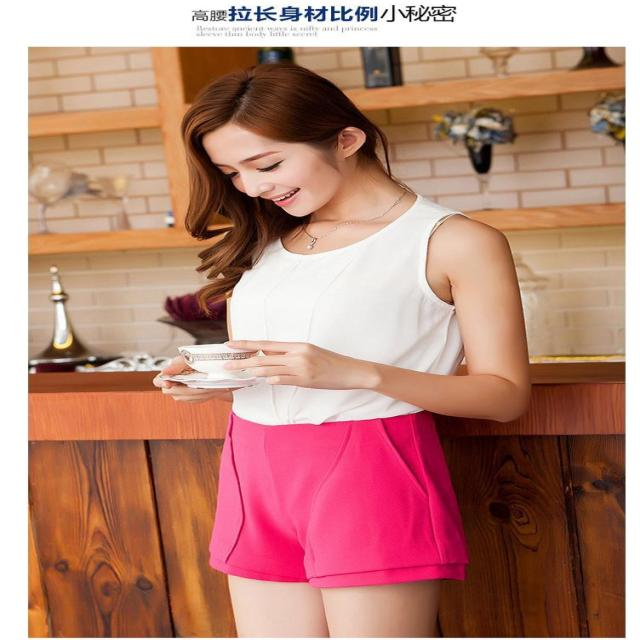shorts: (209, 406, 489, 594)
